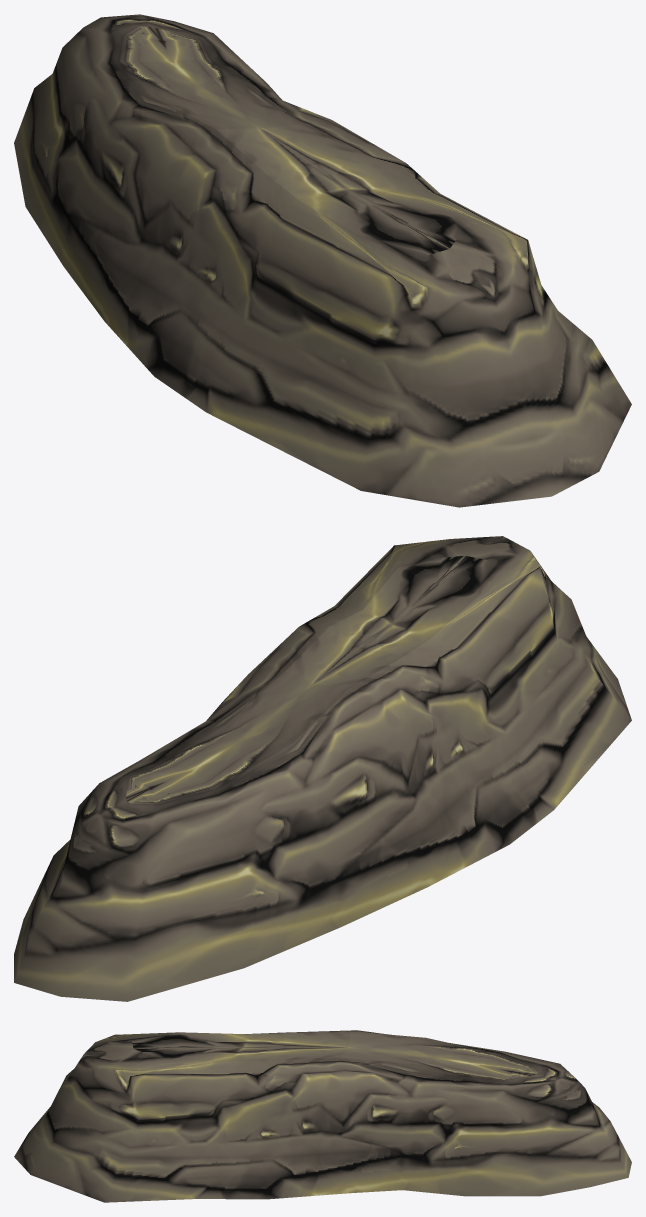
Rendered from Prop_Cliff_05.FBX.
The picture shows the model from 3 angles, top to bottom: view 1: azimuth 30°, elevation 25°; view 2: azimuth 150°, elevation 25°; view 3: azimuth 270°, elevation 25°; orthographic projection. The views are drawn at different scales.
Parts seen in each view (by area): view 1: Prop_Cliff_05; view 2: Prop_Cliff_05; view 3: Prop_Cliff_05.
Boxes of the visible parts, box(x1,y1,x2,y2) form: Prop_Cliff_05: box(14, 14, 631, 507); Prop_Cliff_05: box(14, 536, 631, 1001); Prop_Cliff_05: box(14, 1030, 631, 1202).
Size of the model in its own units: 2.55 by 1.32 by 6.81.
